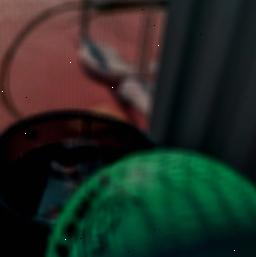algae: (39, 143, 256, 257)
